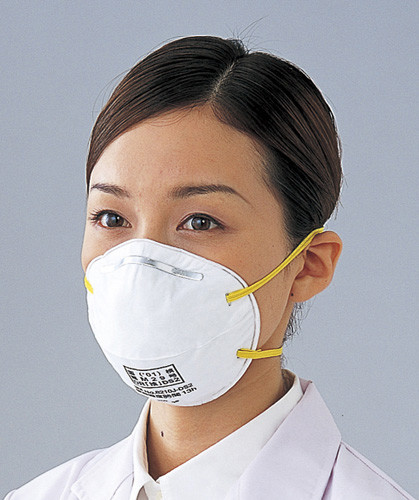face_mask: (82, 143, 263, 408)
